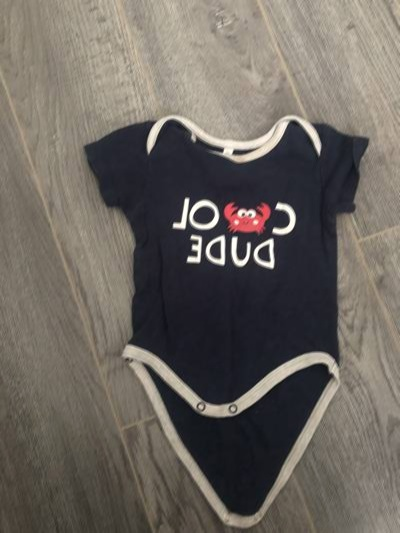Body: (89, 94, 379, 529)
